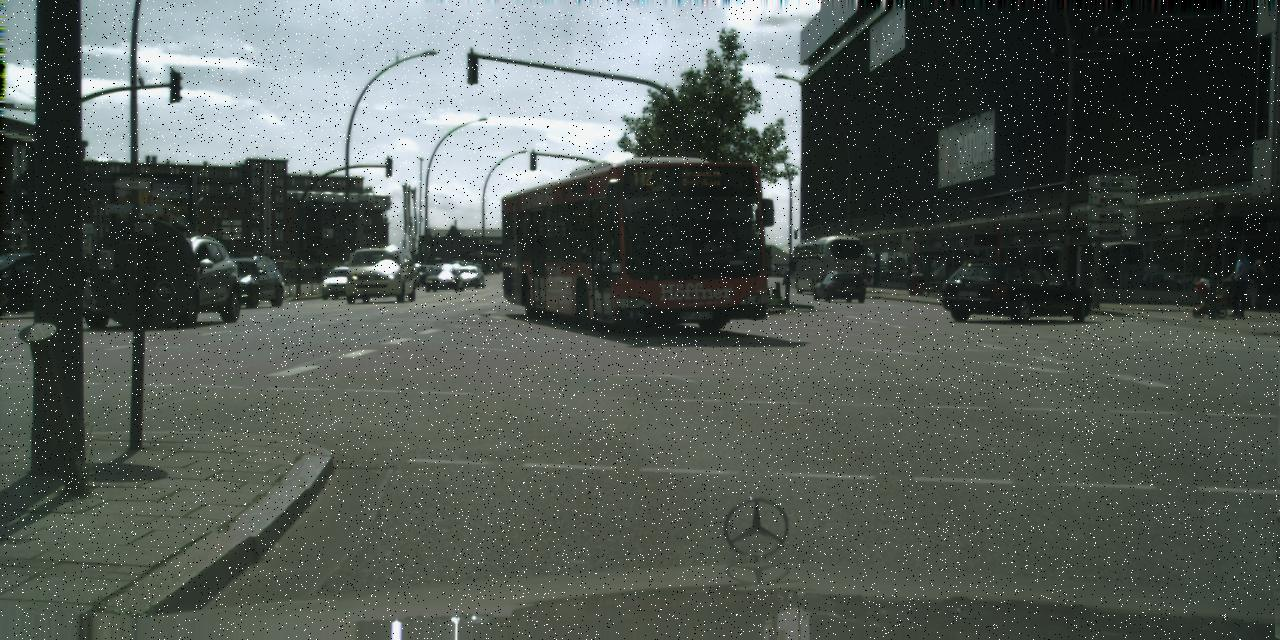ped: (1224, 250, 1252, 316), (11, 244, 37, 307), (76, 252, 100, 310), (0, 247, 21, 307), (1243, 260, 1263, 309), (313, 260, 323, 286), (904, 266, 914, 292), (494, 261, 500, 273)
